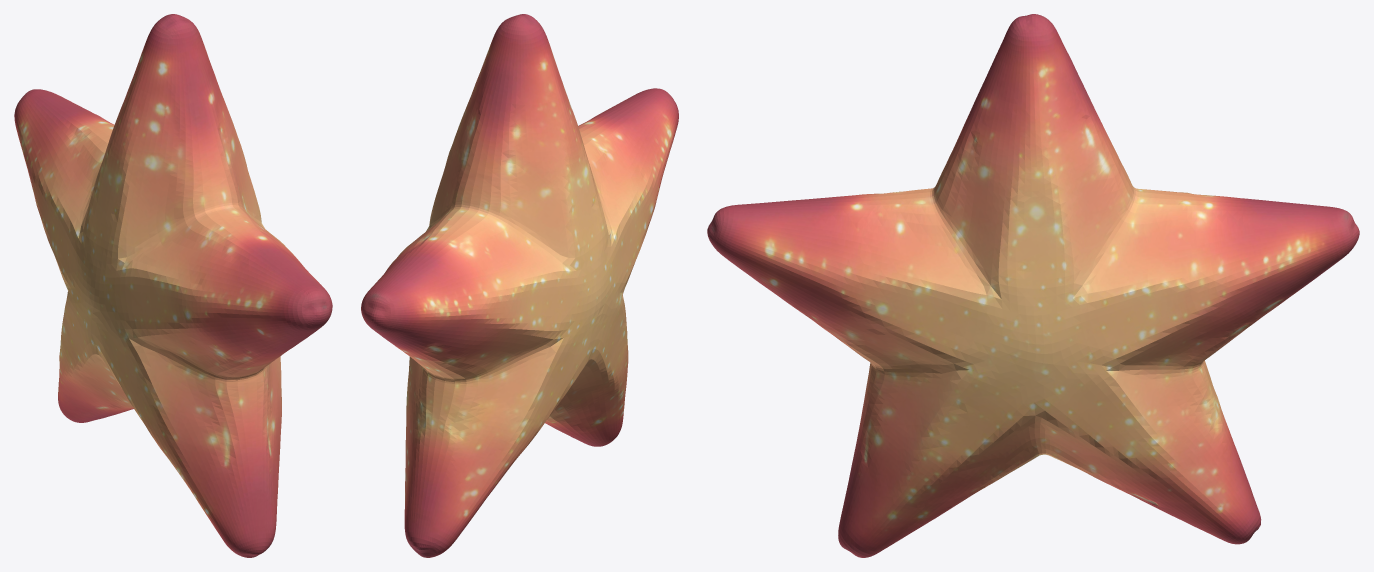
The model's file is super_coin.glb.
3 views of the same model, side by side, from view 1: azimuth 30°, elevation 25°; view 2: azimuth 150°, elevation 25°; view 3: azimuth 270°, elevation 25° (orthographic). The views are drawn at different scales.
Visible parts, largest first — view 1: tripo_node_cd252f20-2e56-4690-be65-34299fdae03e; view 2: tripo_node_cd252f20-2e56-4690-be65-34299fdae03e; view 3: tripo_node_cd252f20-2e56-4690-be65-34299fdae03e.
Boxes of the visible parts, box(x1,y1,x2,y2) form: tripo_node_cd252f20-2e56-4690-be65-34299fdae03e: box(14, 14, 332, 557); tripo_node_cd252f20-2e56-4690-be65-34299fdae03e: box(361, 14, 678, 557); tripo_node_cd252f20-2e56-4690-be65-34299fdae03e: box(707, 14, 1359, 557).
Size of the model in its own units: 0.3159 by 0.9145 by 0.9997.
Materials: 1 (1 with a texture image).
